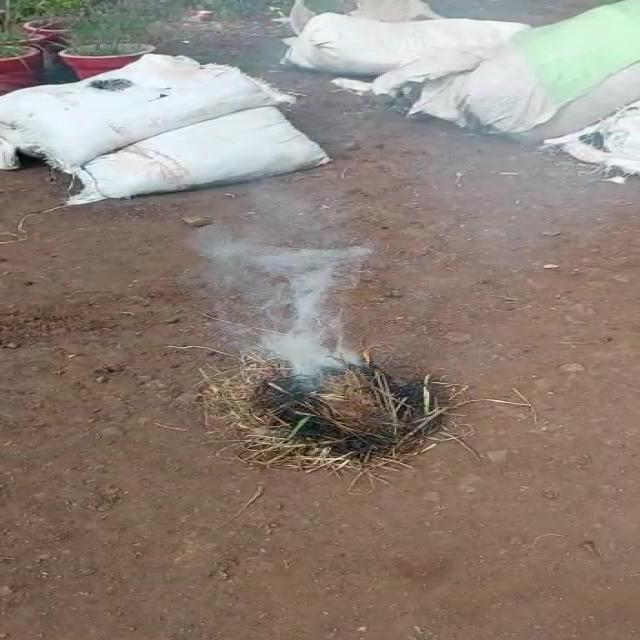firerotation: (187, 229, 384, 382)
